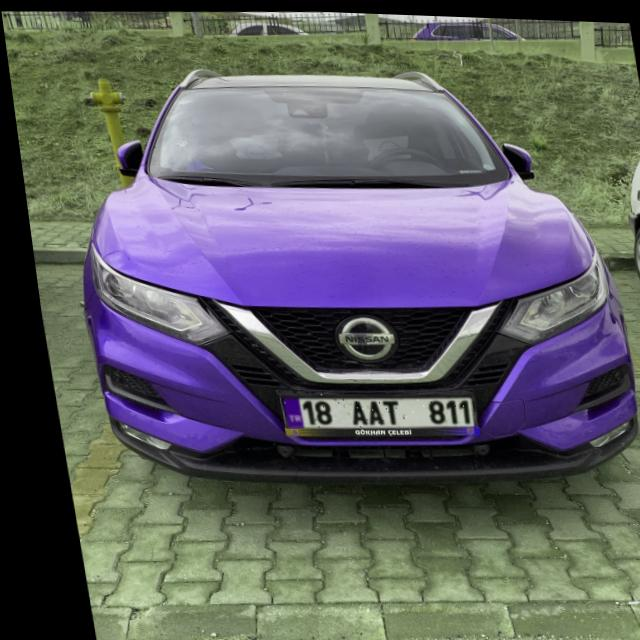license_plate: (269, 385, 466, 432)
